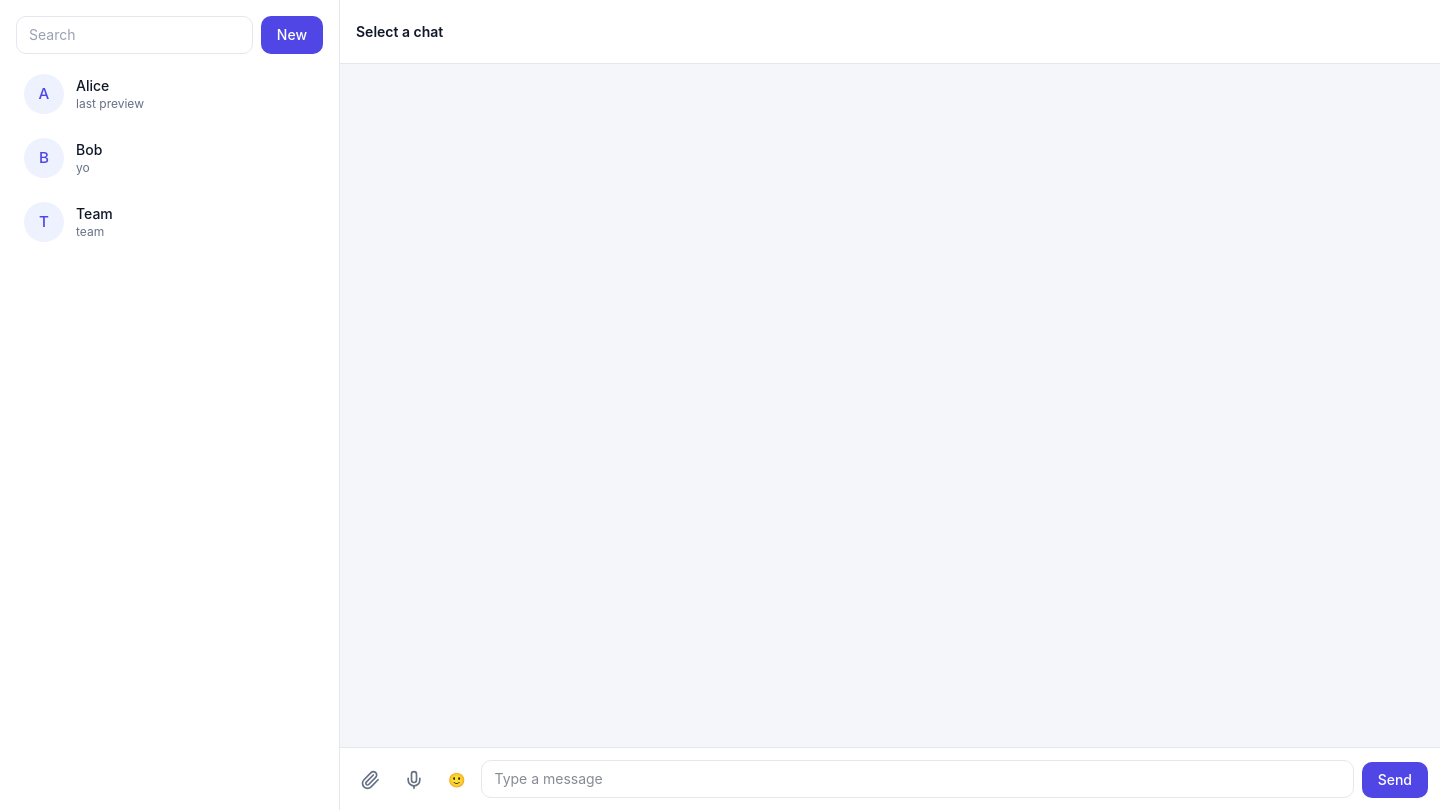
Test: message loading and composer › sends on Enter, renders the optimistic bubble, and clears the draft
Click the text "Alice" at (93, 86), box [76, 77, 109, 94]
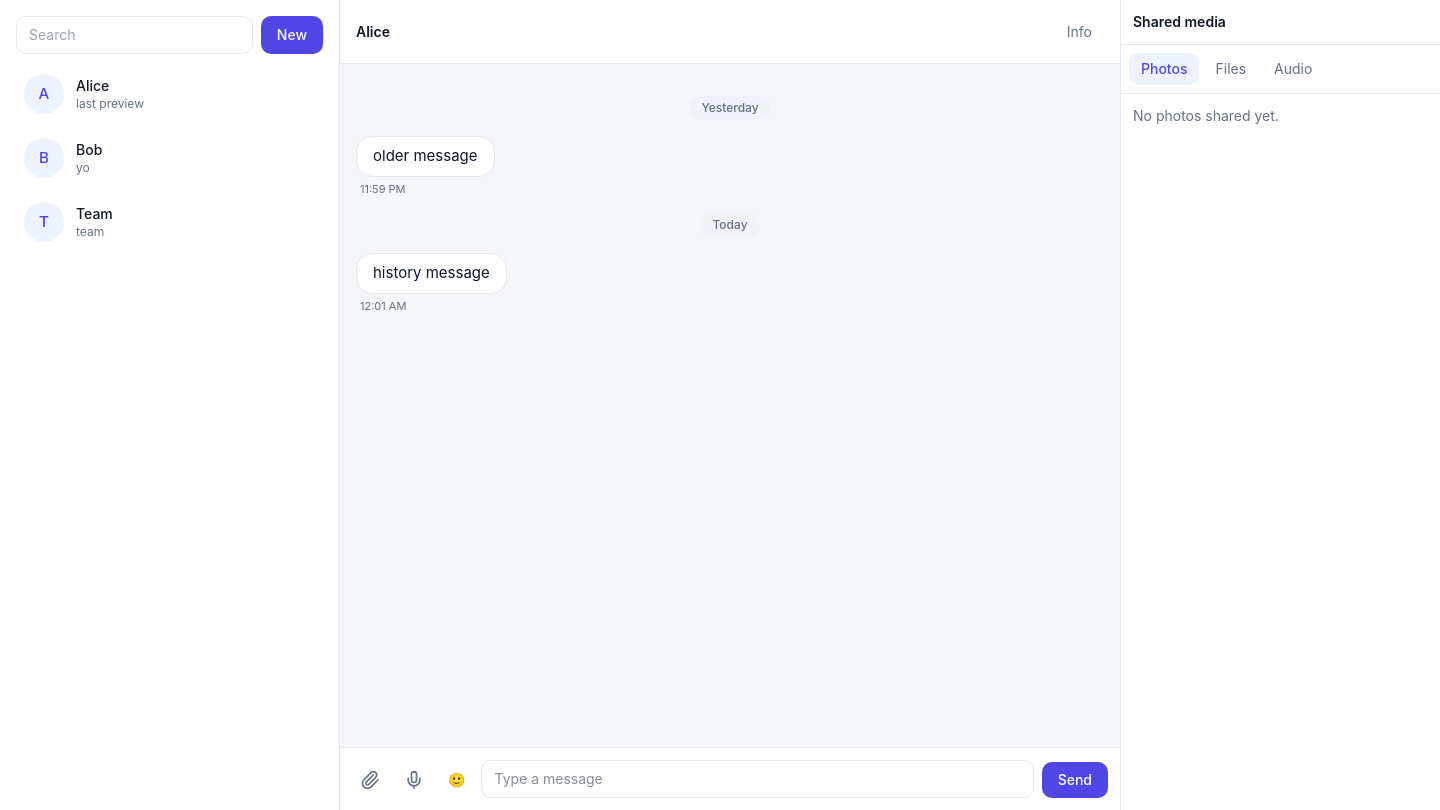
Type "hello world" into the text box with placeholder "Type a message" at (758, 779), box [482, 760, 1034, 798]
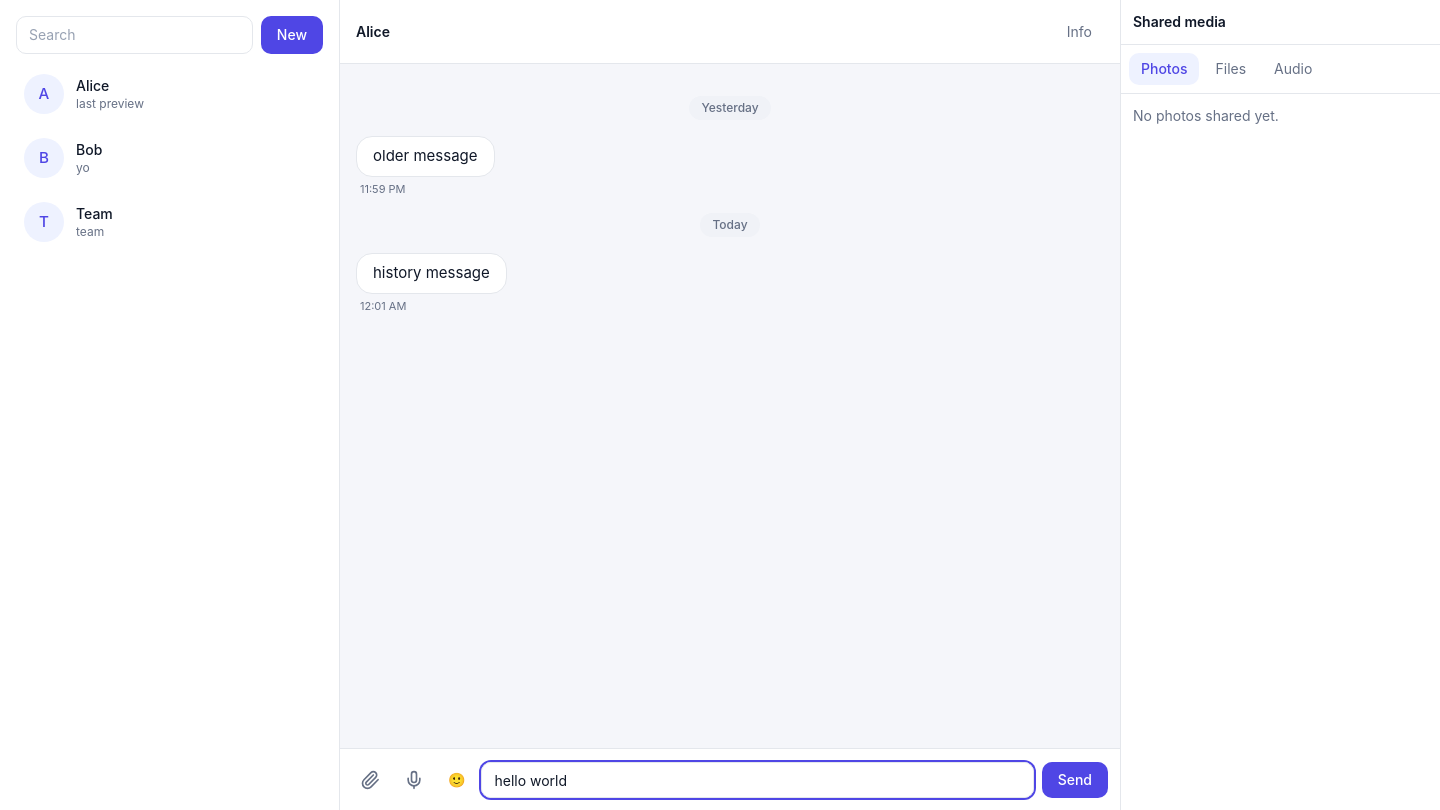
Press Enter
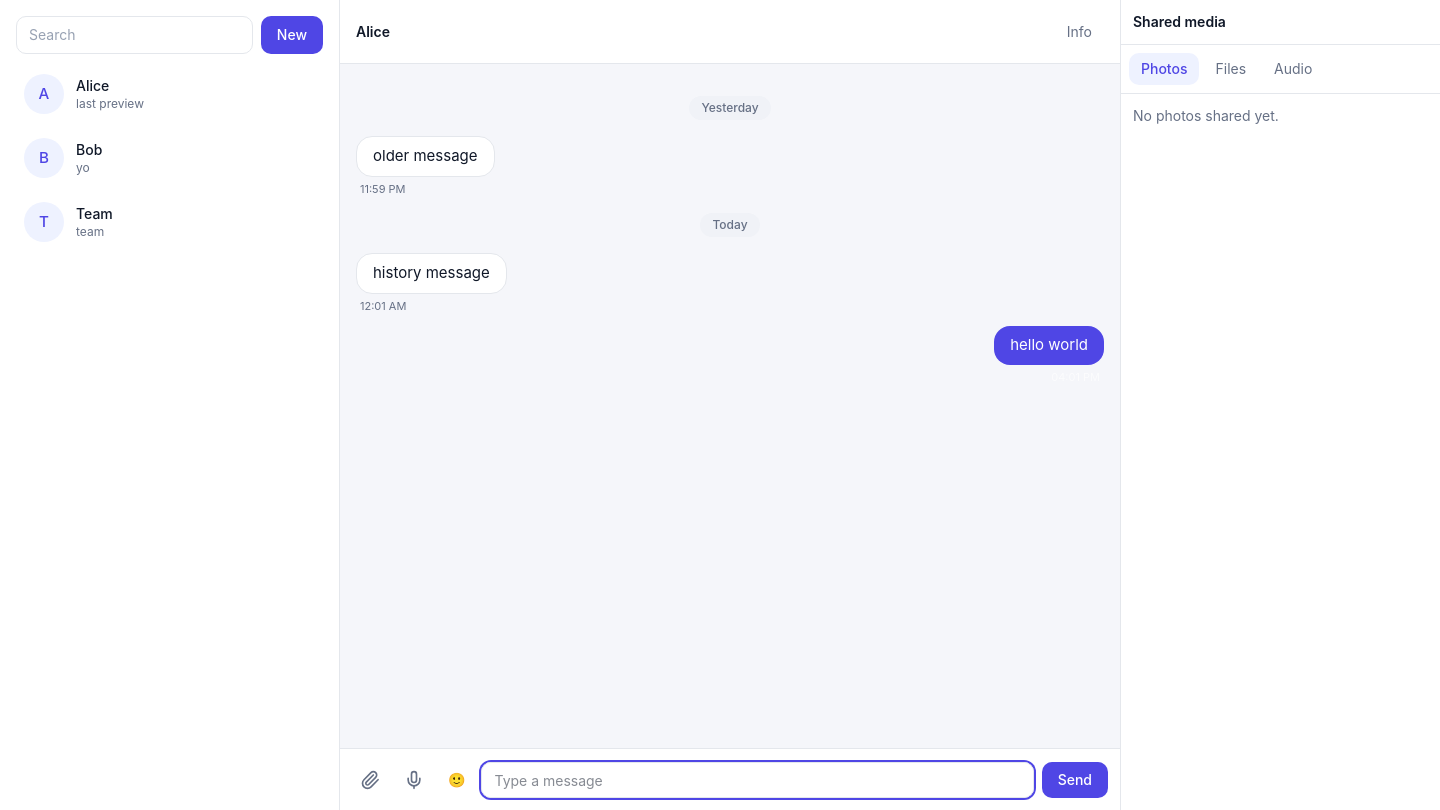
Now the text "hello world" is shown, box [1010, 335, 1088, 354]
Now the text box with placeholder "Type a message" is empty, box [482, 762, 1034, 798]
